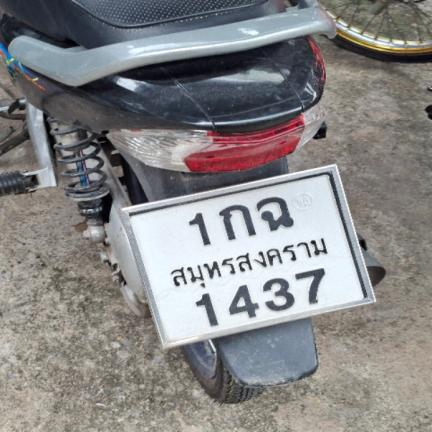1: (178, 207, 217, 251), (187, 289, 223, 329)
3: (256, 271, 303, 317)
4: (215, 280, 264, 323)
7: (293, 264, 341, 308)
A01: (213, 199, 261, 242)
A09: (250, 193, 299, 236)
SKM: (159, 232, 335, 297)
